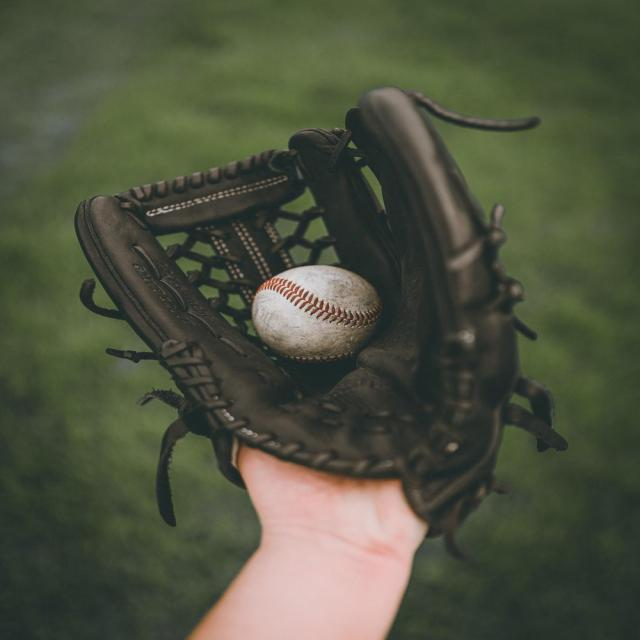baseball: (249, 265, 374, 362)
